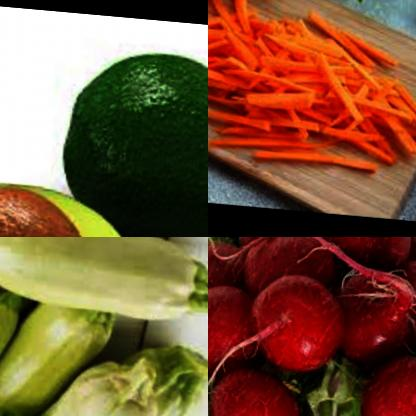avocado: (50, 19, 208, 237), (0, 159, 198, 237)
carrot: (208, 0, 416, 185), (208, 0, 277, 91)
rediska: (246, 267, 345, 370), (336, 255, 416, 363), (208, 275, 269, 386), (239, 237, 334, 305), (208, 359, 297, 416), (355, 345, 416, 416), (320, 237, 416, 269), (208, 237, 253, 304), (234, 237, 330, 250)
vegetable marrow: (0, 237, 208, 333), (29, 317, 208, 416), (0, 275, 110, 416)
